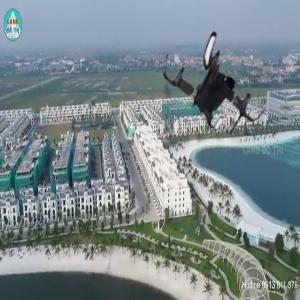drone: (160, 20, 281, 141)
